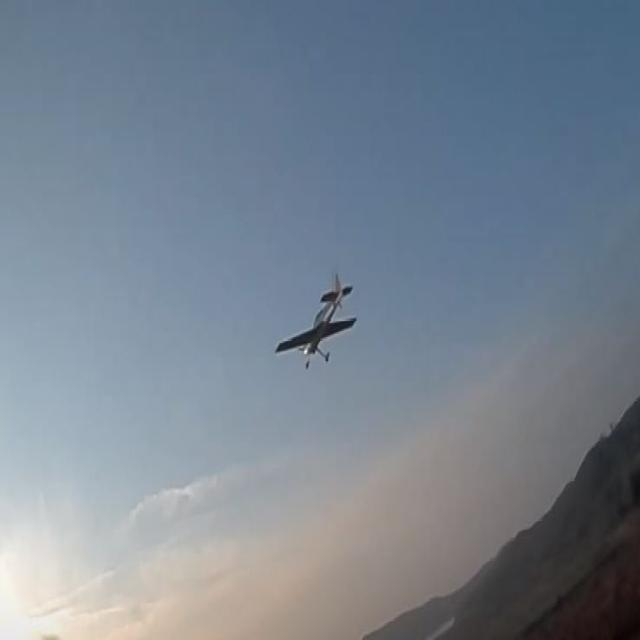iha: (307, 301, 326, 339)
